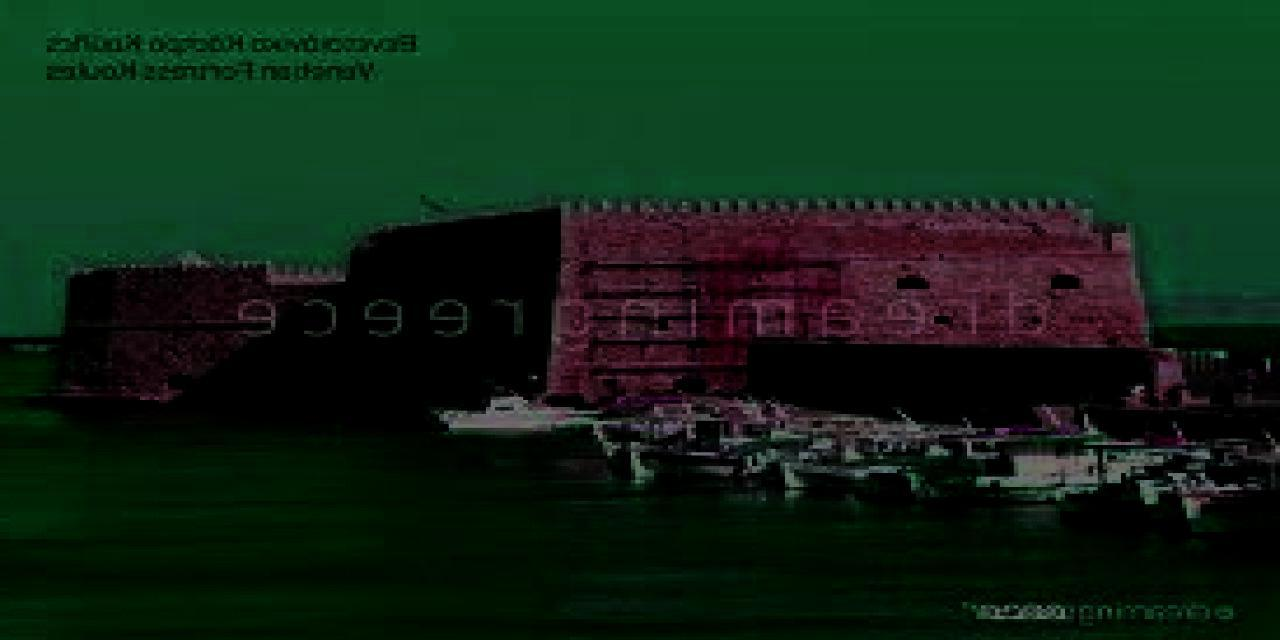Kules: (36, 197, 1160, 412)
